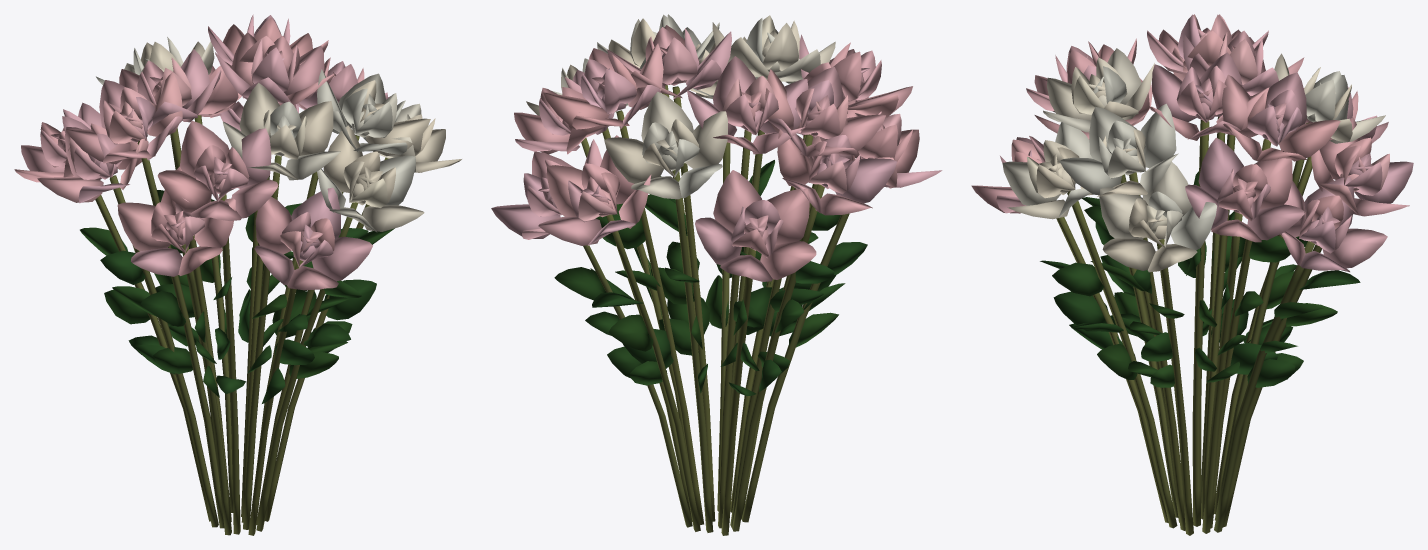
Rendered from bucket_roses_cream.glb.
3 views of the same model, side by side, from view 1: azimuth 30°, elevation 25°; view 2: azimuth 150°, elevation 25°; view 3: azimuth 270°, elevation 25° (orthographic). The views are drawn at different scales.
Visible parts, largest first — view 1: Sammel Pflanze, Sammel Putz; view 2: Sammel Pflanze, Sammel Putz; view 3: Sammel Pflanze, Sammel Putz.
Boxes of the visible parts, box(x1,y1,x2,y2) form: Sammel Pflanze: box(14, 14, 461, 403); Sammel Putz: box(95, 115, 388, 535); Sammel Pflanze: box(491, 14, 942, 395); Sammel Putz: box(581, 85, 849, 535); Sammel Pflanze: box(971, 14, 1413, 387); Sammel Putz: box(1056, 117, 1321, 535).
Bounding box in the file's own units: 0.4508 × 0.5457 × 0.4621.
